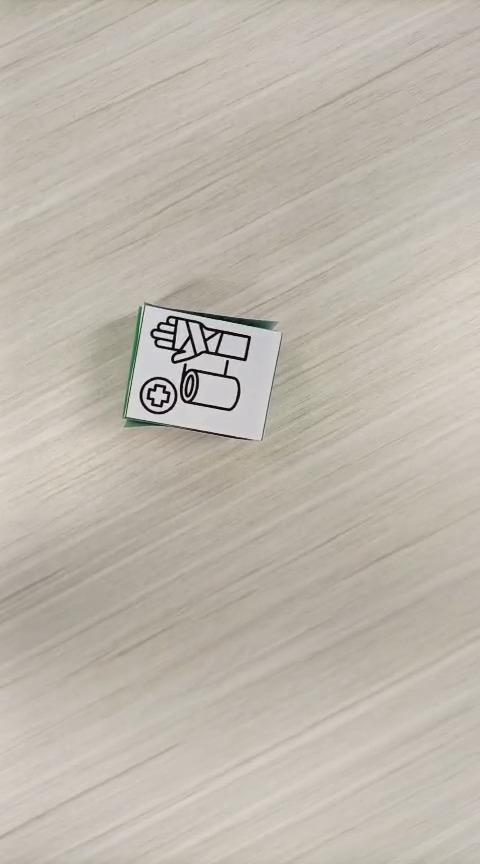Bandages: (121, 300, 282, 442)
